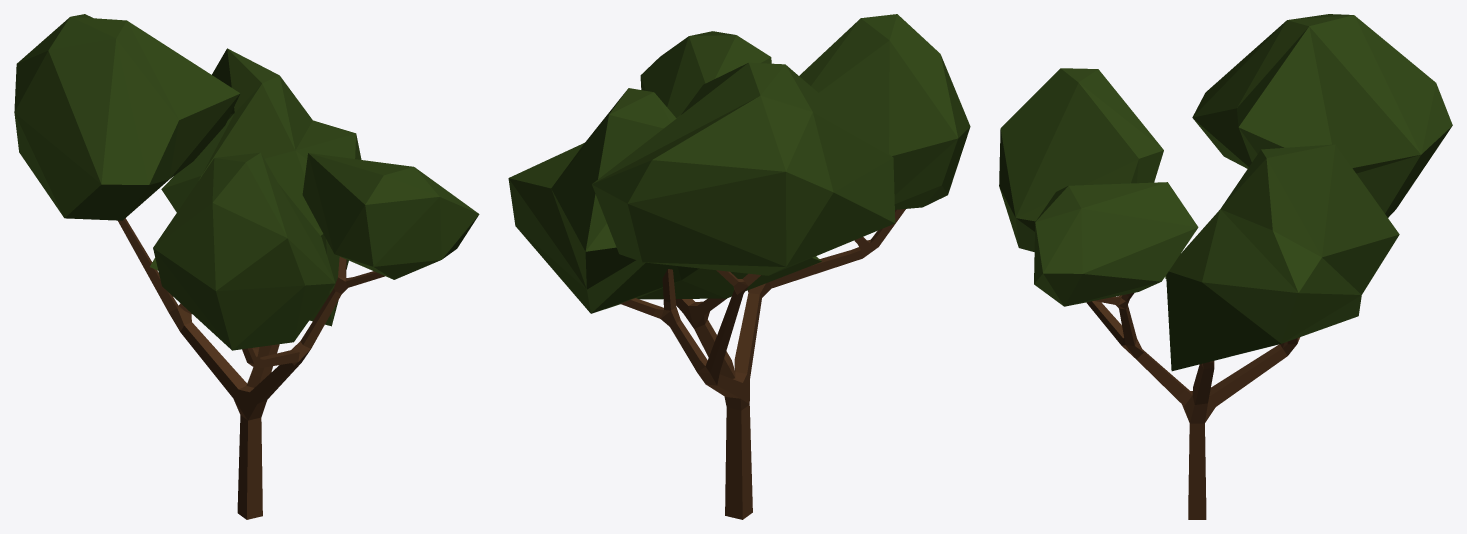
The model's file is tree5.fbx.
The picture shows the model from 3 angles, left to right: view 1: azimuth 30°, elevation 25°; view 2: azimuth 150°, elevation 25°; view 3: azimuth 270°, elevation 25°; orthographic projection. The views are drawn at different scales.
Parts seen in each view (by area): view 1: Crown; view 2: Crown; view 3: Crown.
Part boxes in pixels (left/top/right/bottom): Crown: left=14, top=14, right=479, bottom=519; Crown: left=508, top=14, right=970, bottom=519; Crown: left=999, top=14, right=1452, bottom=519.
Bounding box in the file's own units: 612 × 845 × 758.
